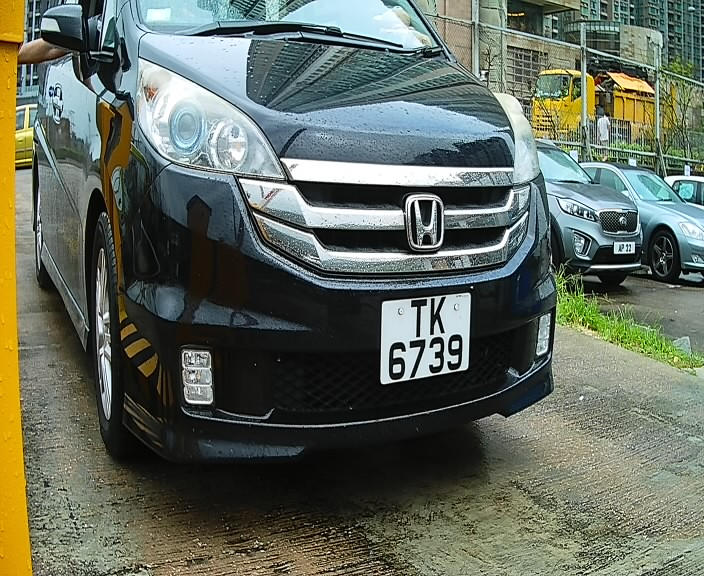Car: (55, 1, 575, 503)
License Plate: (375, 286, 483, 390)
